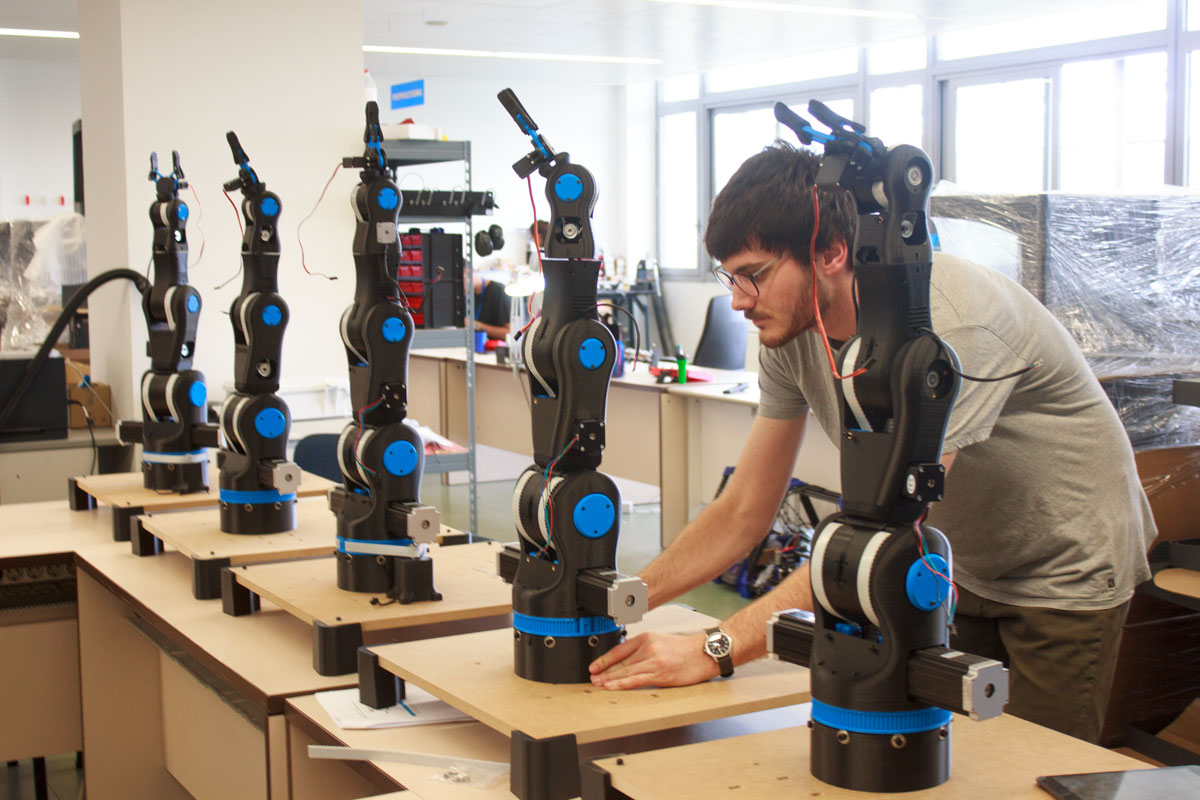person: (588, 142, 1161, 751)
robot: (771, 98, 1014, 800), (489, 84, 651, 690), (326, 98, 453, 607), (116, 148, 222, 497), (217, 126, 301, 539)
